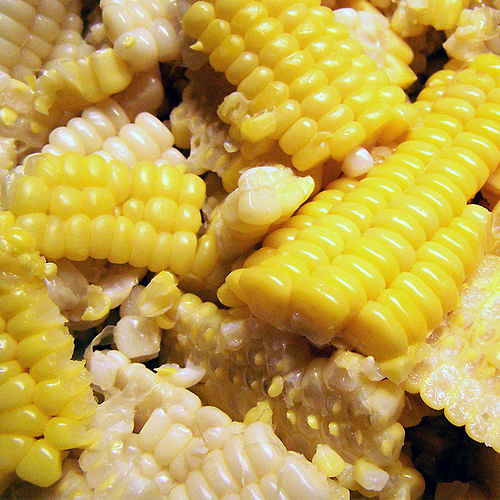corn: (1, 1, 498, 498)
